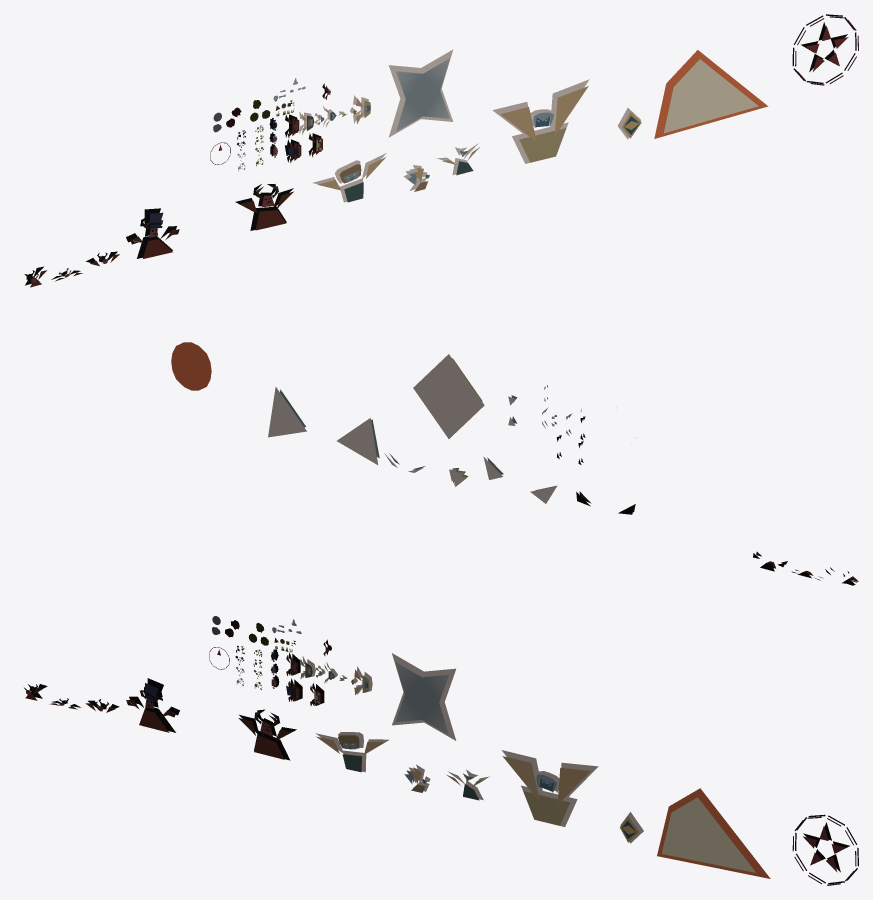
3 views of the same model, one above another, from view 1: azimuth 30°, elevation 25°; view 2: azimuth 150°, elevation 25°; view 3: azimuth 330°, elevation 25° (orthographic).
Parts seen in each view (by area): view 1: Sunlight, Guardian Angel Face, Divine Detonator Explosion, DevilFace, Holy Hulk Face, Devil In Persons Clothin Face, PentagramFace; view 2: Divine Detonator Explosion, Guardian Angel Face, Sunlight; view 3: Sunlight, Guardian Angel Face, Divine Detonator Explosion, DevilFace, Holy Hulk Face, Devil In Persons Clothin Face, PentagramFace.
Boxes of the visible parts, x1,y1,x2,y2 form: Sunlight: [654, 50, 768, 138]; Guardian Angel Face: [492, 79, 589, 163]; Divine Detonator Explosion: [388, 49, 453, 137]; DevilFace: [235, 184, 293, 230]; Holy Hulk Face: [313, 153, 386, 202]; Devil In Persons Clothin Face: [126, 208, 179, 258]; PentagramFace: [792, 14, 858, 85]; Divine Detonator Explosion: [413, 354, 484, 438]; Guardian Angel Face: [268, 387, 379, 464]; Sunlight: [171, 342, 211, 390]; Sunlight: [657, 788, 770, 878]; Guardian Angel Face: [501, 750, 598, 826]; Divine Detonator Explosion: [392, 653, 456, 740]; DevilFace: [238, 709, 296, 760]; Holy Hulk Face: [316, 732, 389, 772]; Devil In Persons Clothin Face: [126, 678, 179, 732]; PentagramFace: [792, 814, 858, 885].
Size of the model in its own units: 102 by 17.38 by 1.93.
